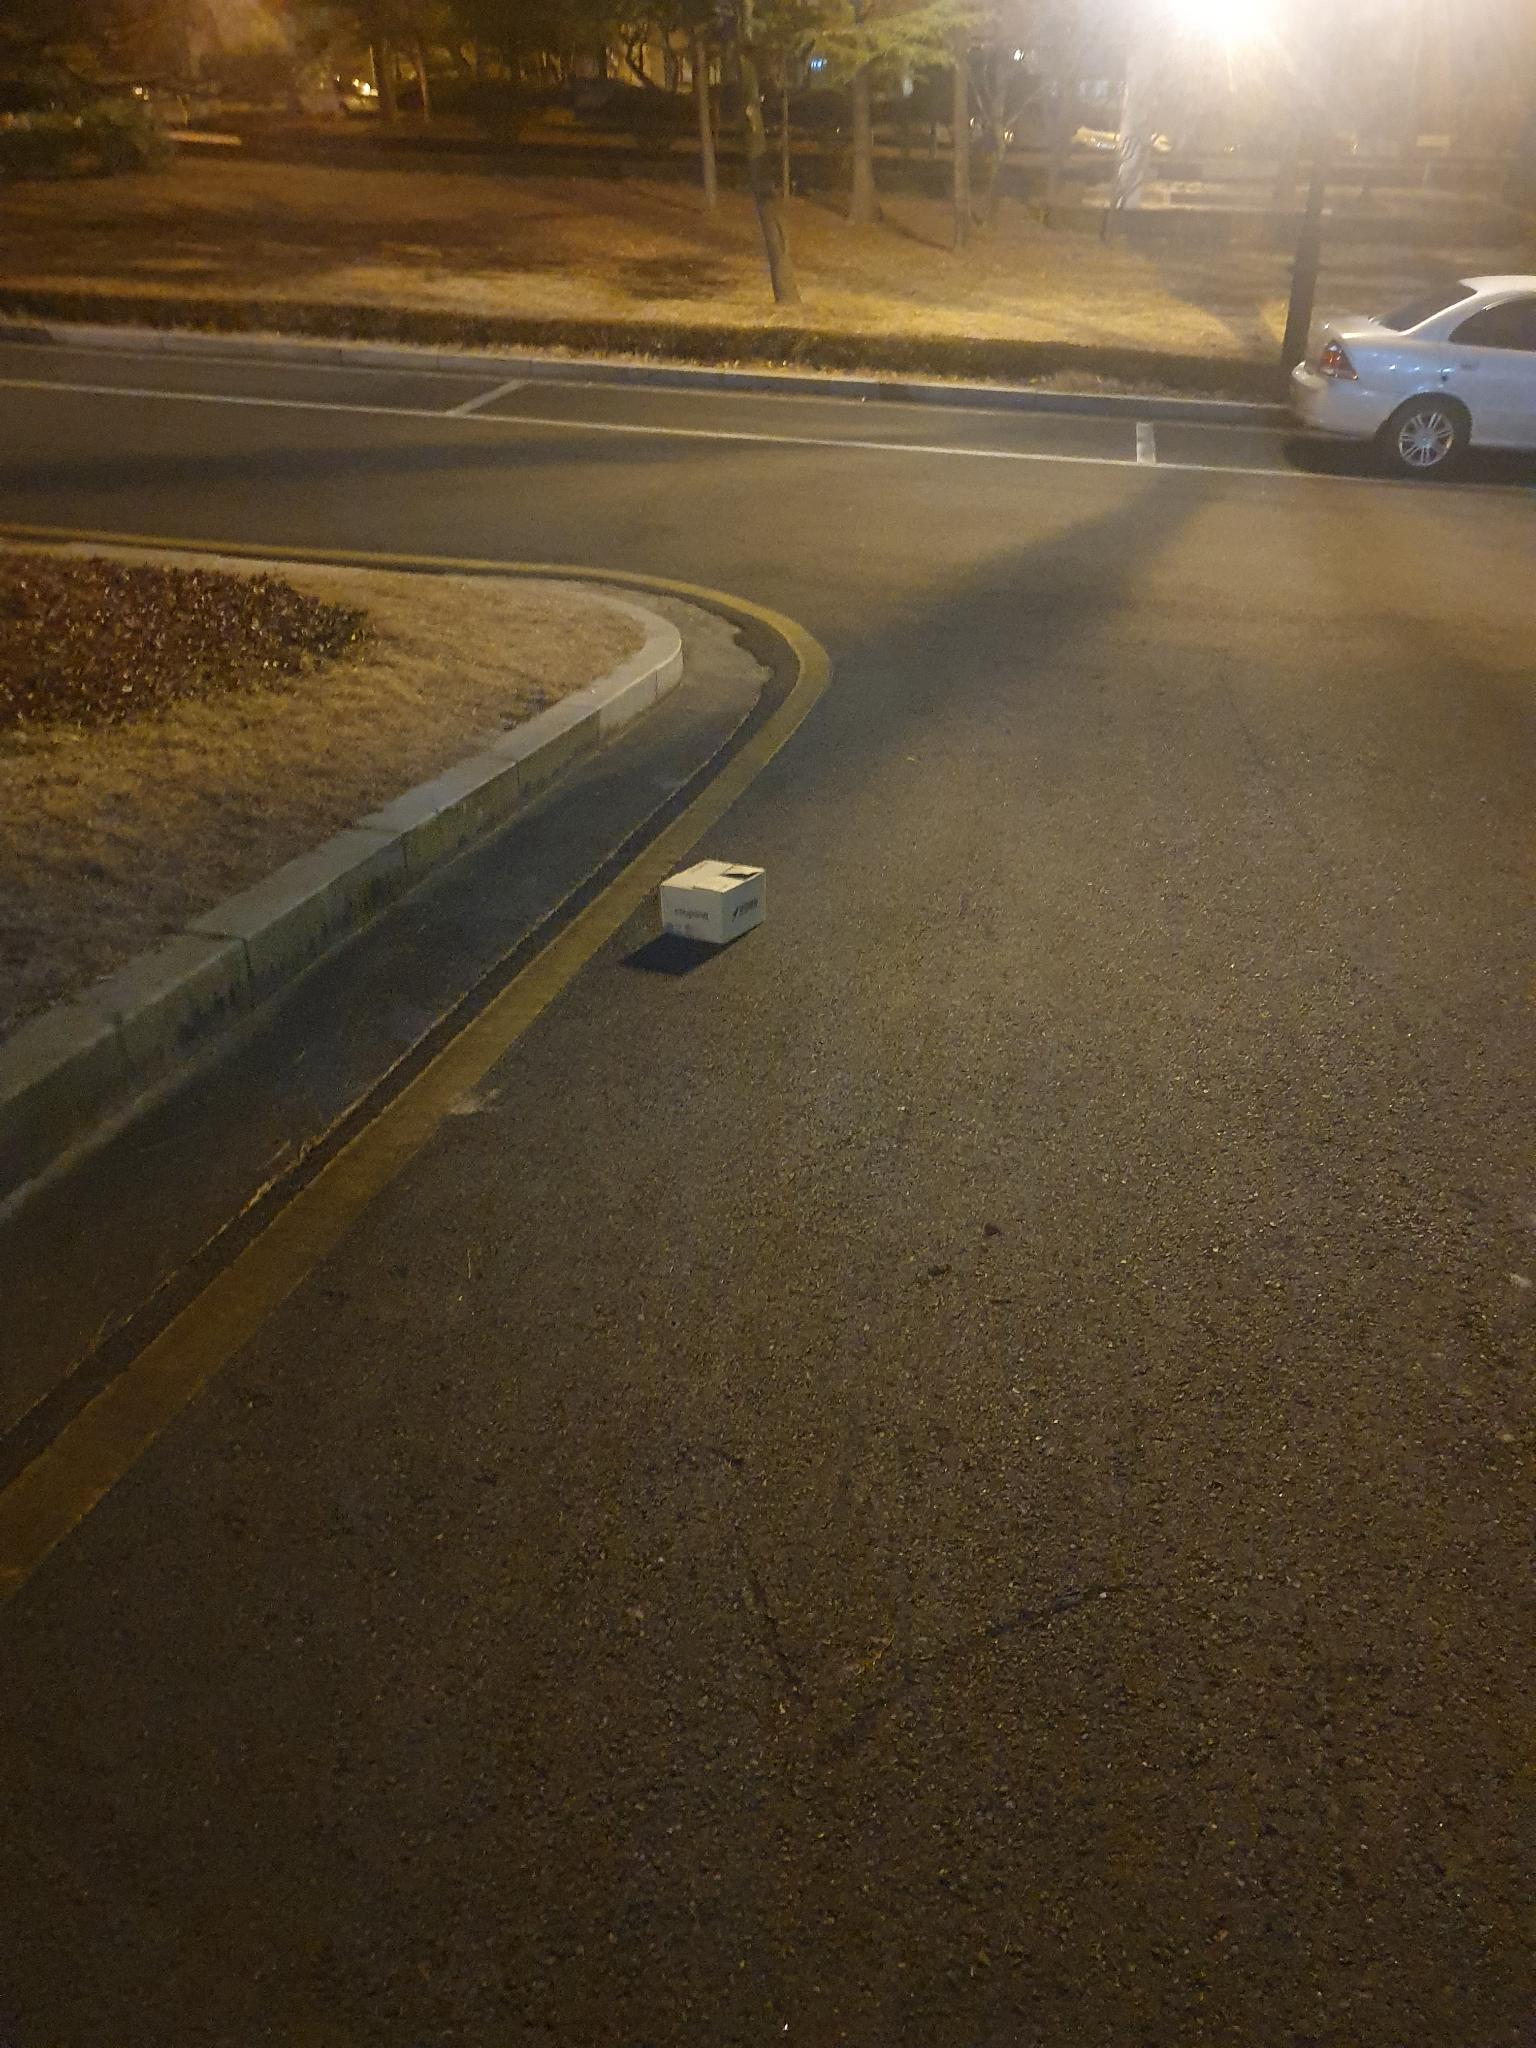Box: (634, 843, 784, 959)
